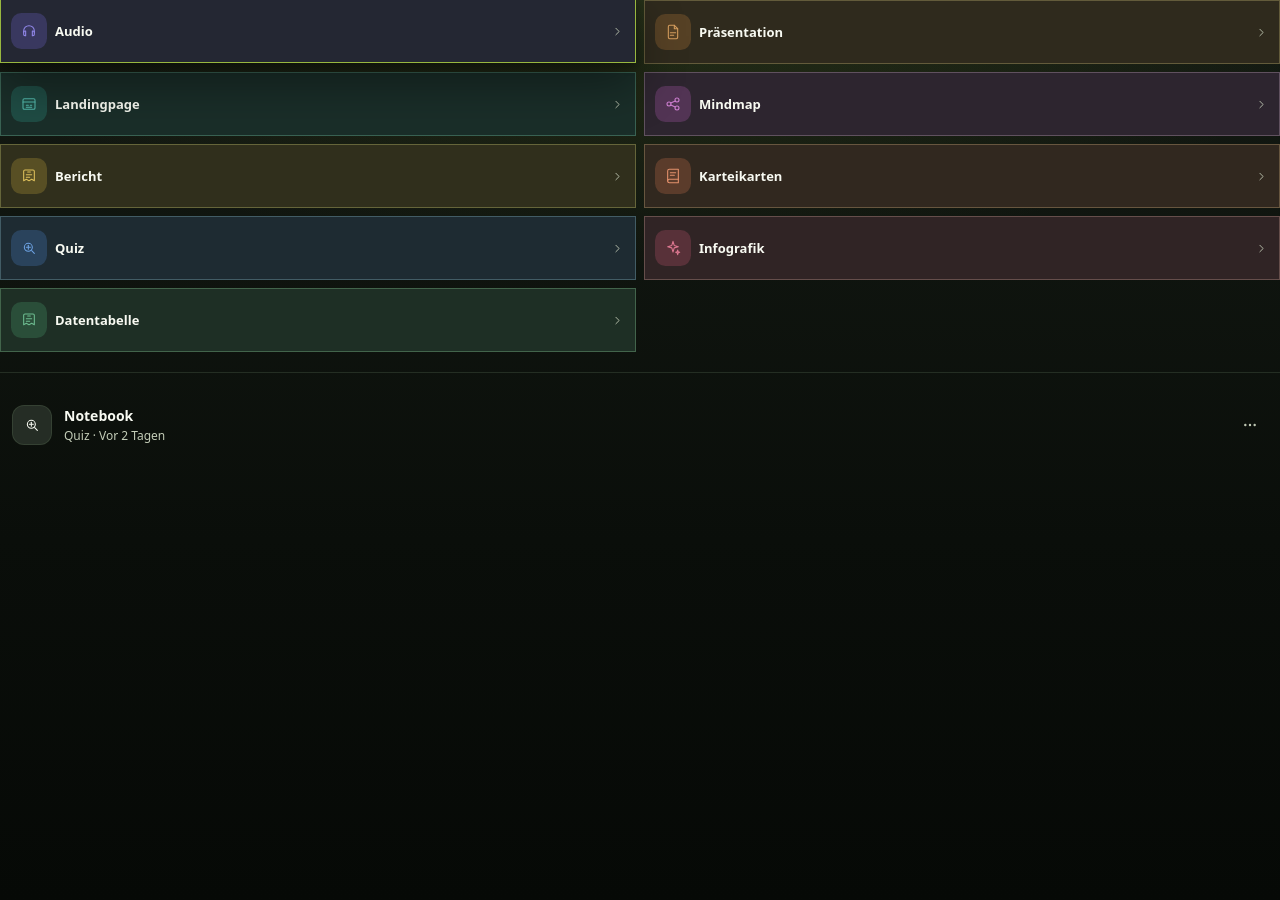
StudioPanel › Quiz ist interaktiv: Antwort auswählen zeigt Feedback und Score am Ende
Click the text "Notebook". click: (99, 416)
box: [64,406,133,425]
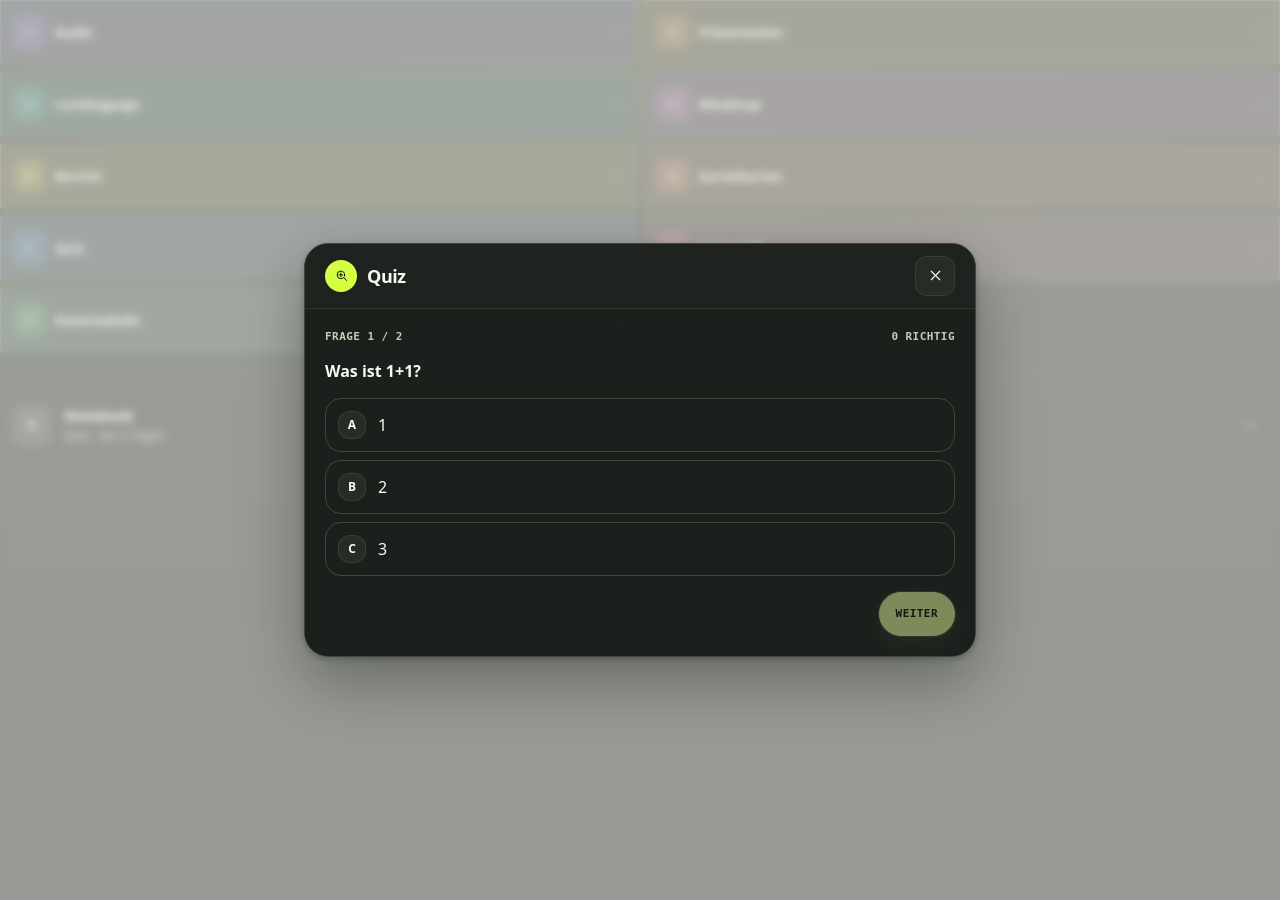
expect the heading "Was ist 1+1?" is shown: met, box [325,360,421,382]
Click the button named "Antwort B: 2". click: (352, 487)
box: [325,460,955,514]
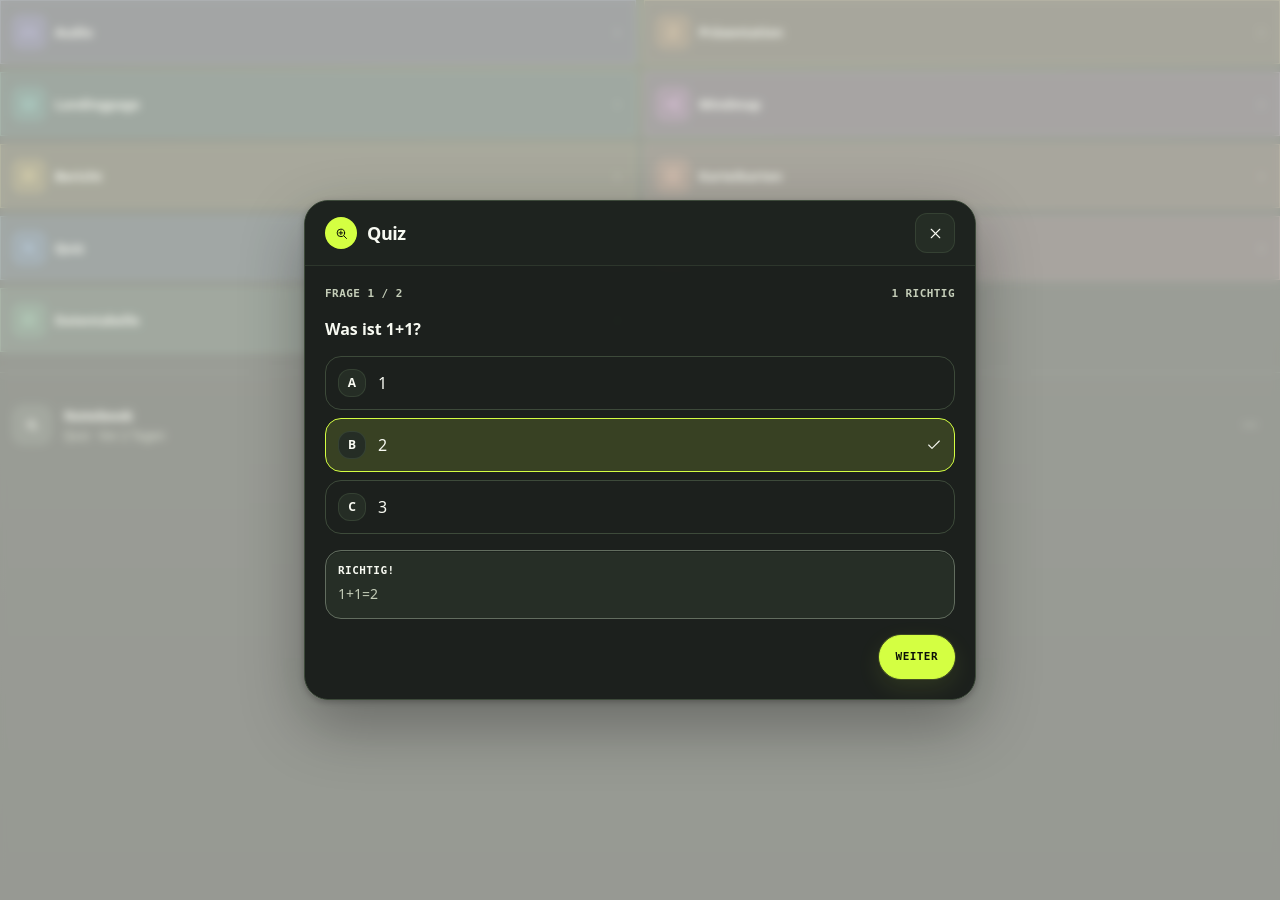
expect the text "Richtig!" is shown: met, box [338,564,394,576]
expect the text "1+1=2" is shown: met, box [338,584,378,603]
Click the button "Weiter". click: (917, 657)
box: [879,635,955,679]
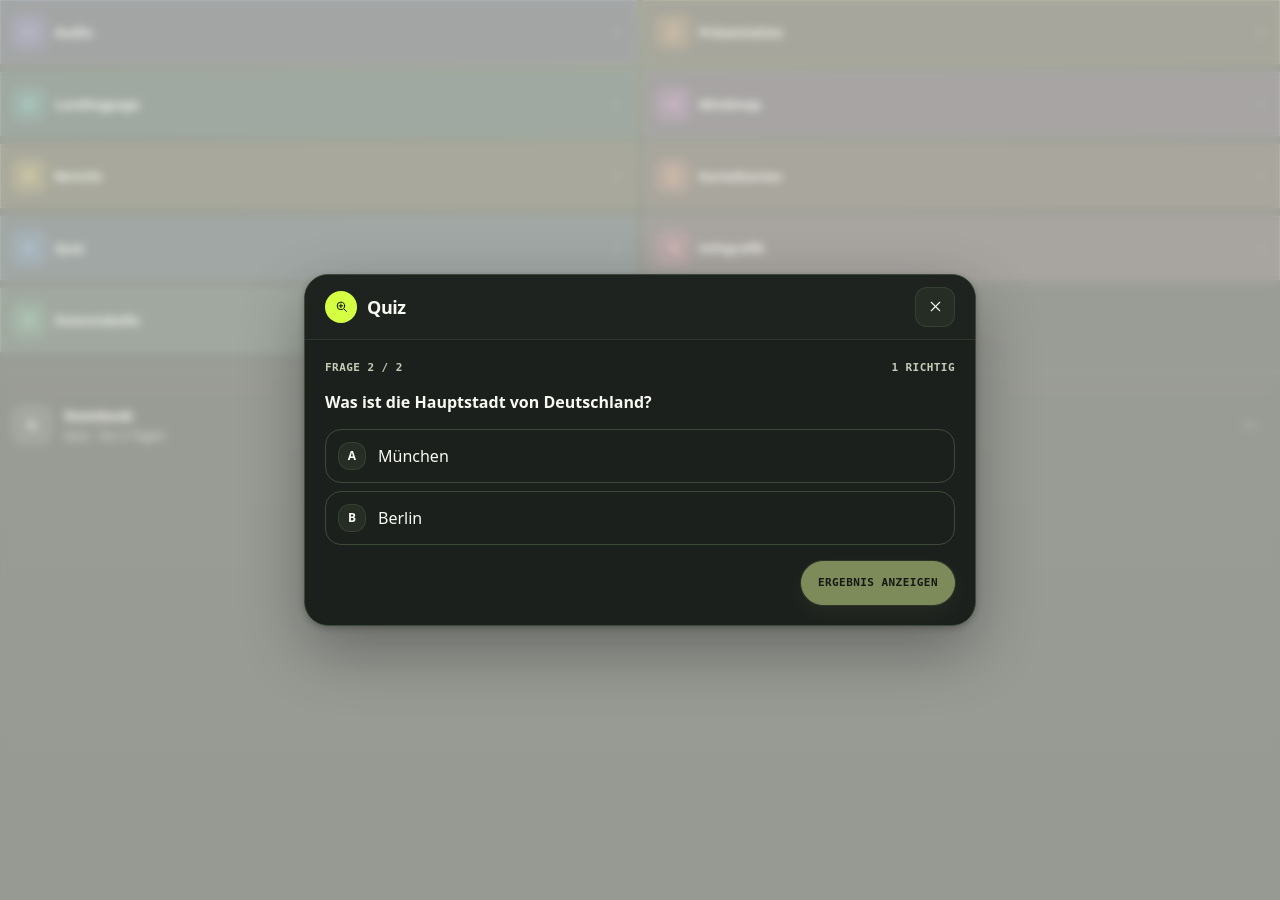
expect the heading "Was ist die Hauptstadt von Deutschland?" is shown: met, box [325,391,652,413]
Click the button with aria-label "Antwort A: München". click: (413, 456)
box: [325,429,955,483]
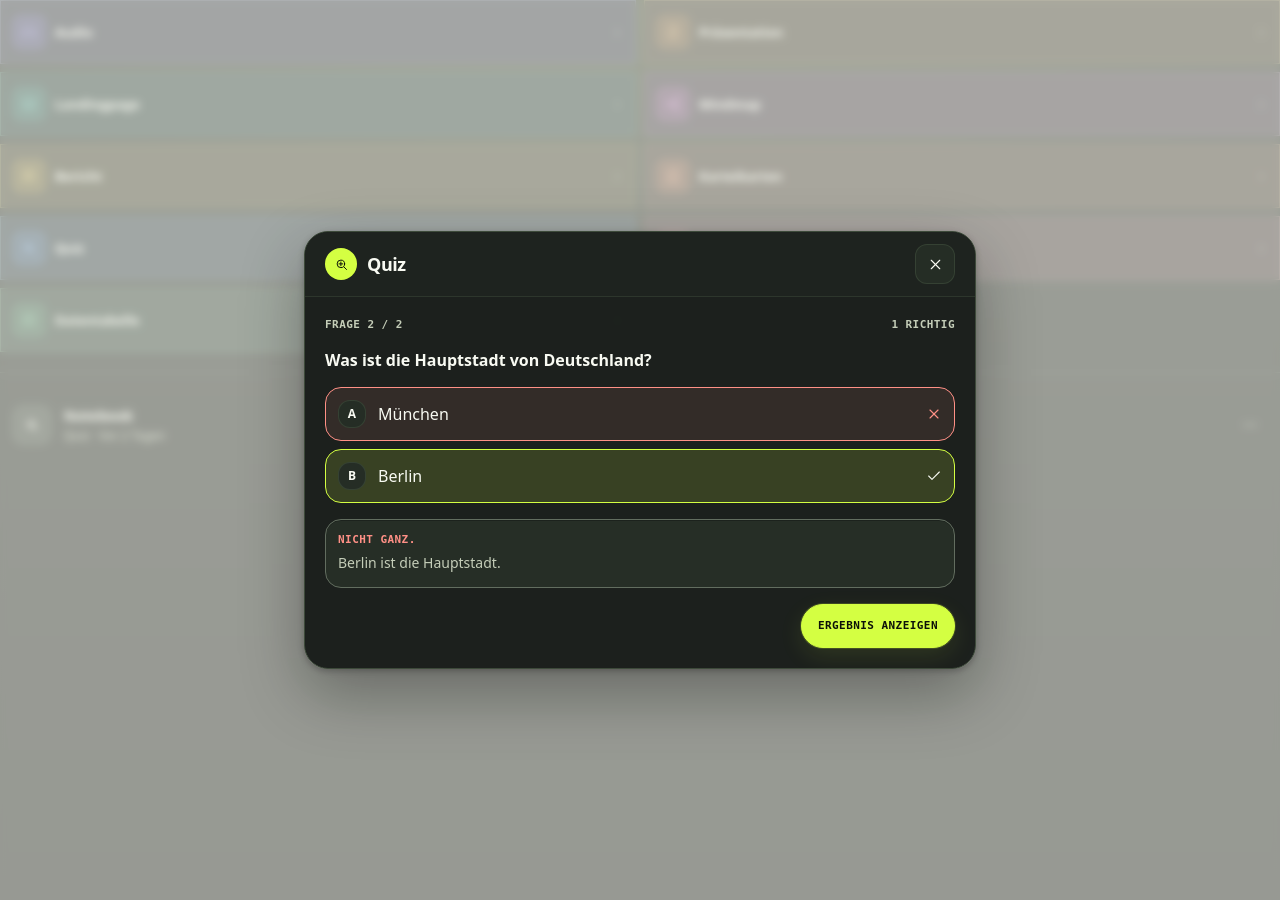
expect the text "Nicht ganz." is shown: met, box [338,532,416,546]
Click the button "Ergebnis anzeigen". click: (878, 626)
box: [801,604,955,648]
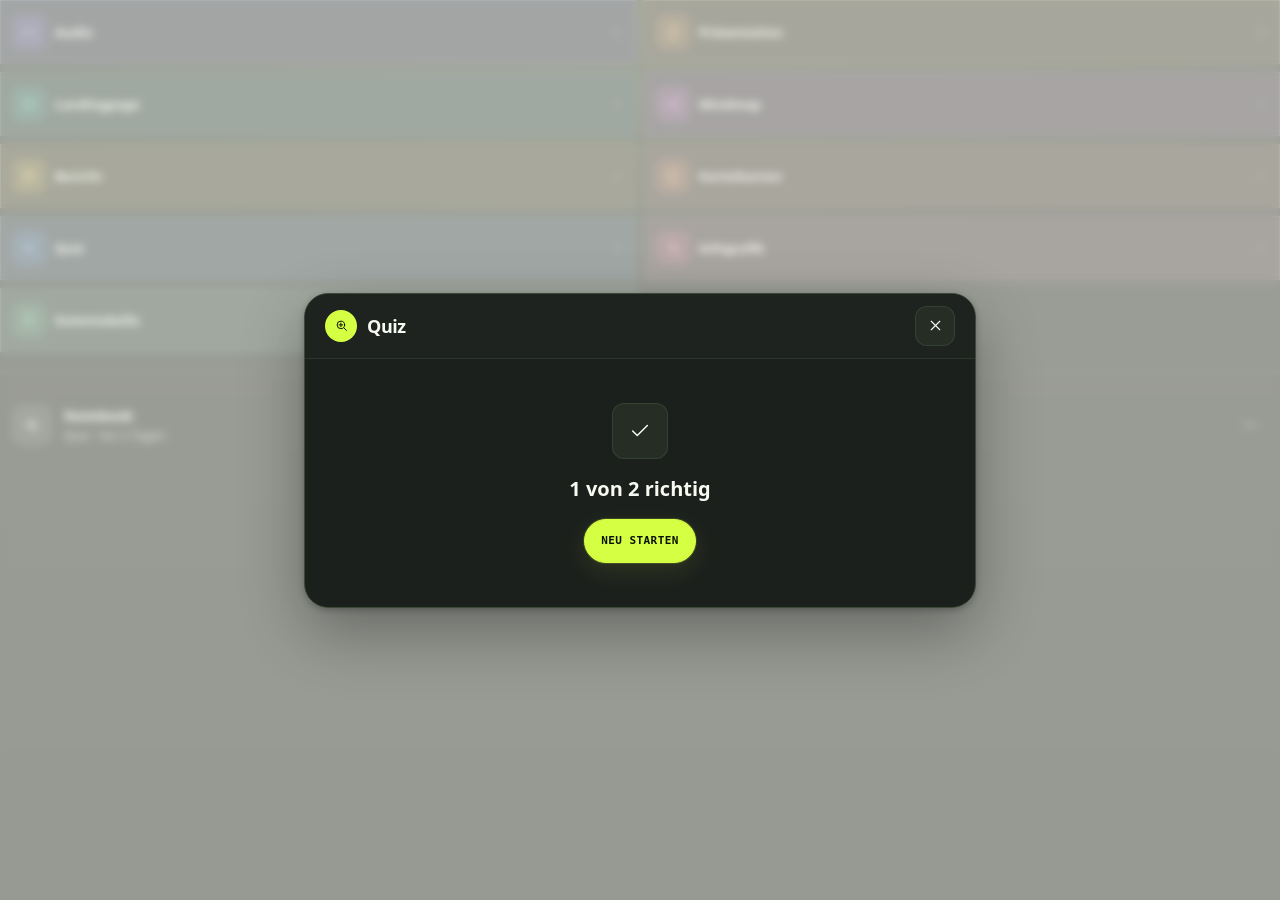
expect the text "1 von 2 richtig" is shown: met, box [569,474,711,502]
Click the button "Neu starten". click: (640, 540)
box: [584,518,696,562]
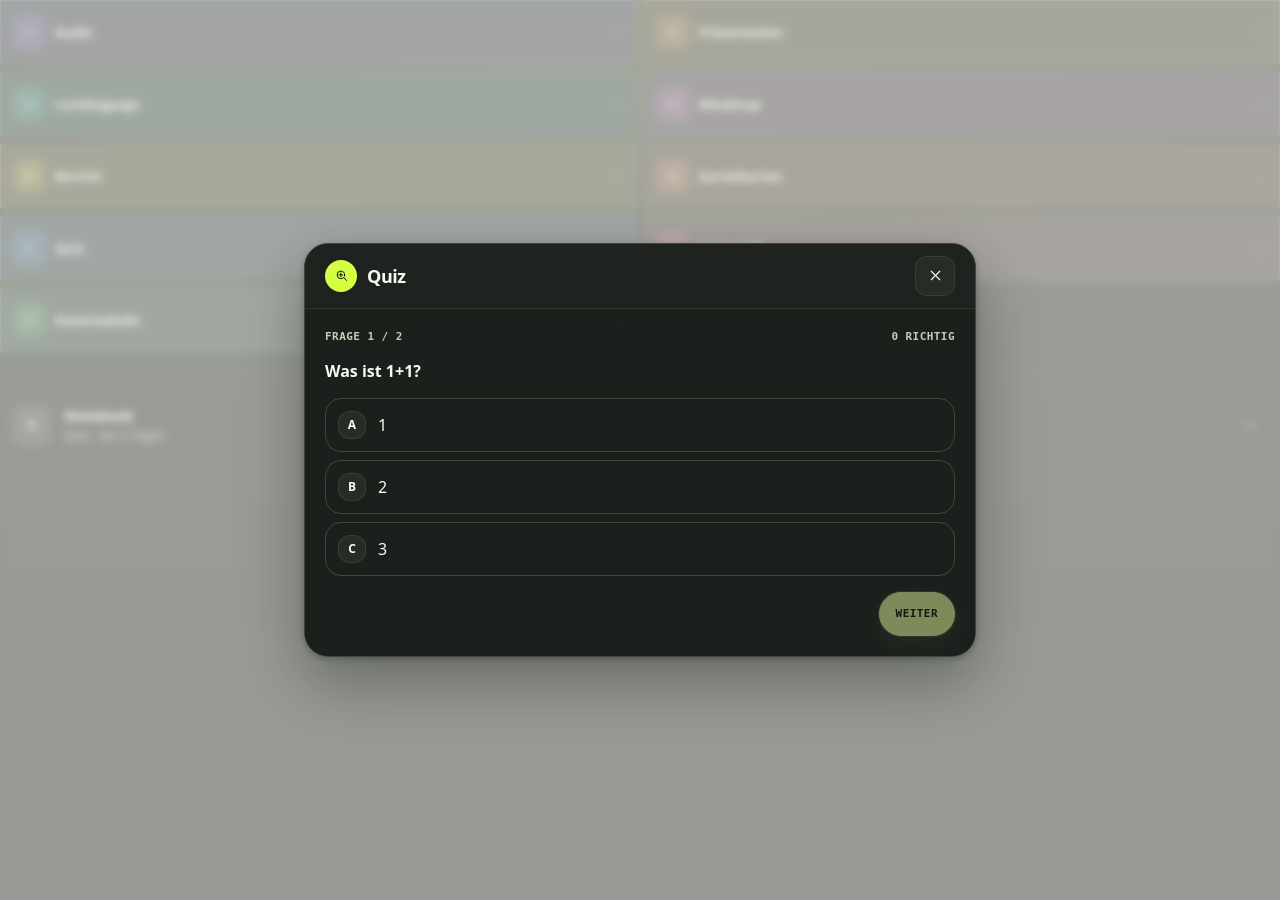
expect the heading "Was ist 1+1?" is shown: met, box [325,360,421,382]
